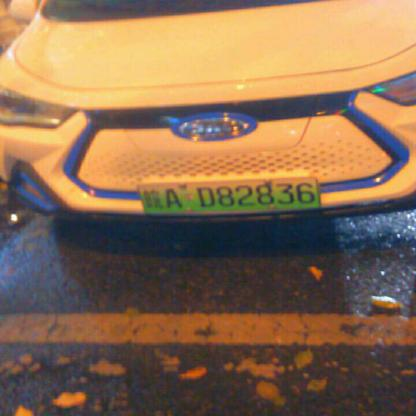lp: (139, 177, 321, 214)
